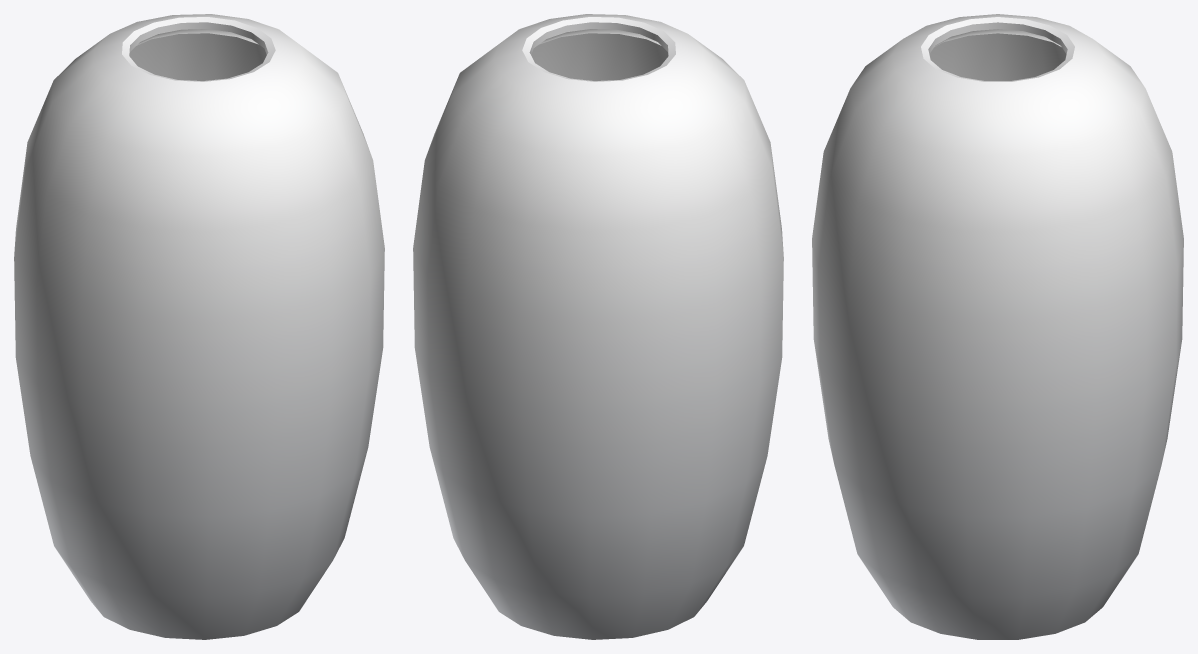
The model's file is Vase_Oval_Open.fbx.
3 renders of one model, left to right at view 1: azimuth 30°, elevation 25°; view 2: azimuth 150°, elevation 25°; view 3: azimuth 270°, elevation 25°, orthographic.
Parts seen in each view (by area): view 1: Vase_Oval_Open; view 2: Vase_Oval_Open; view 3: Vase_Oval_Open.
Boxes of the visible parts, x1=… form: Vase_Oval_Open: x1=14, y1=14, x2=384, y2=639; Vase_Oval_Open: x1=413, y1=14, x2=783, y2=639; Vase_Oval_Open: x1=812, y1=14, x2=1183, y2=639.
Bounding box in the file's own units: 56.57 × 94.11 × 56.82.
